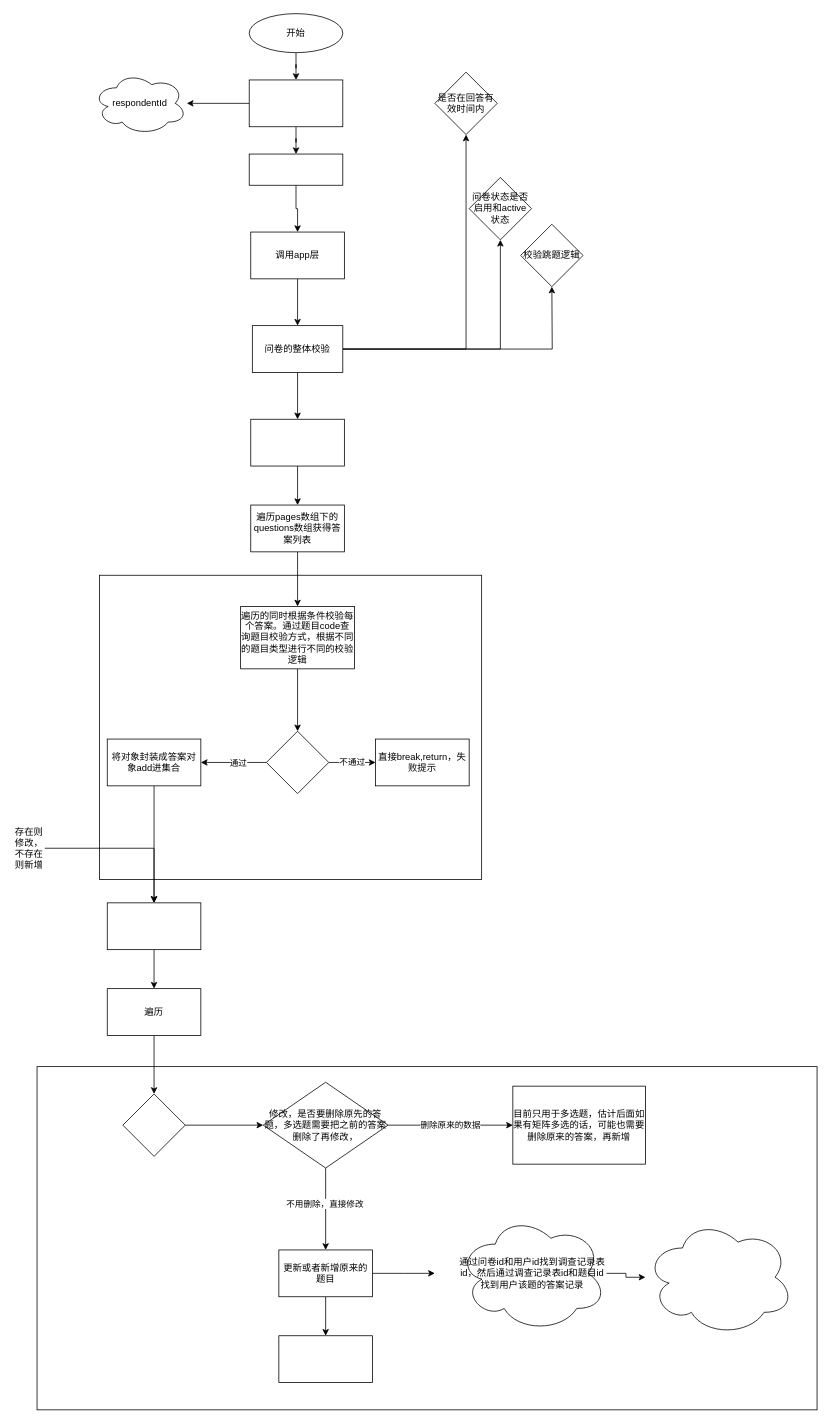
Image size: 831x1424. Some labels were removed from this diagram. Here are the shapes that lost their labels. From the top down, the centre of each, then its label:
At [295,103]: "获得用户信息，set进dto对象".
At [295,169]: "biz层直接转发到app".
At [297,442]: "new一个答案对象的list集合".
At [297,762]: "是否通过校验".
At [153,926]: "答案对象的集合入库".
At [153,1124]: "新增还是修改".
At [719,1277]: "找到答案记录后即可实现存在即修改不存在即新增".
At [325,1359]: "返回成功提示".
